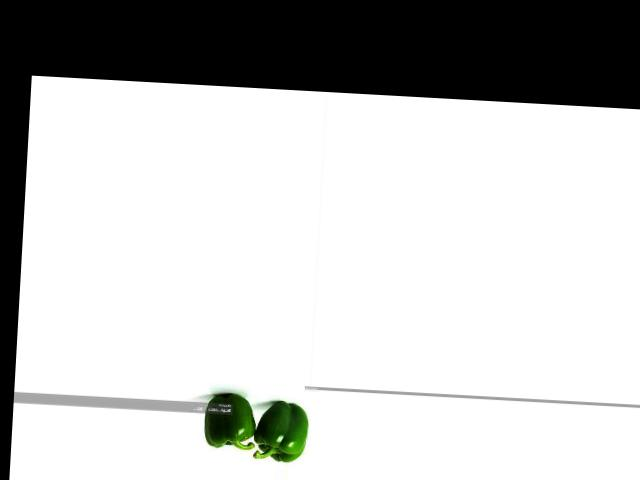bell_pepper: (253, 391, 309, 467)
